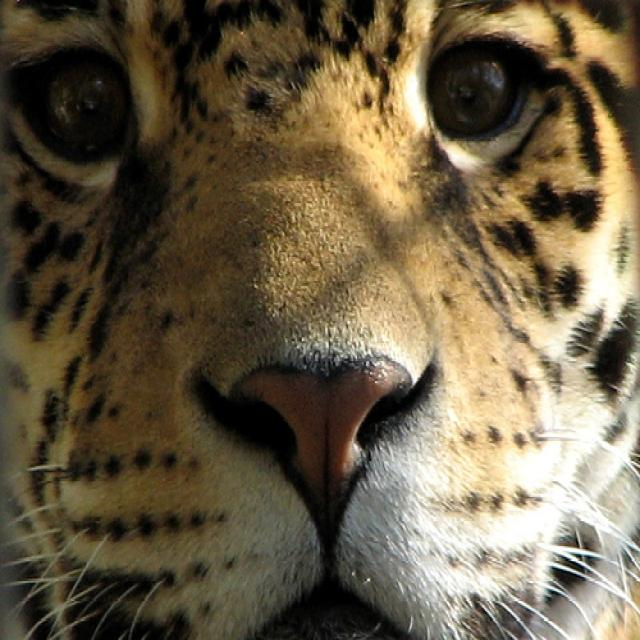Leopard: (5, 0, 629, 635)
